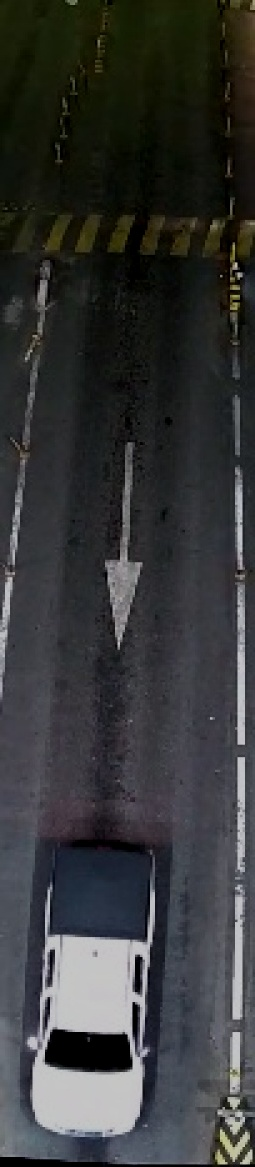car: (24, 825, 170, 1153)
